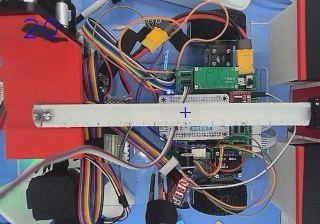ironball: (40, 107, 53, 121)
